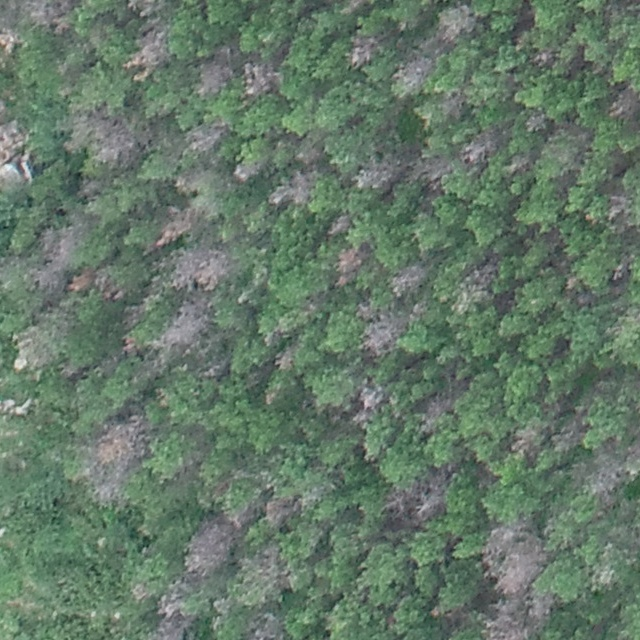unhealthy: (79, 416, 149, 498), (484, 519, 547, 593), (384, 472, 448, 527), (154, 298, 210, 357), (585, 442, 637, 505), (480, 593, 549, 640), (23, 218, 74, 281), (182, 516, 233, 575), (90, 111, 141, 168), (124, 26, 176, 81), (171, 246, 232, 290), (10, 321, 60, 373), (241, 546, 294, 594), (359, 305, 404, 358), (458, 255, 500, 304), (195, 49, 236, 98), (155, 205, 201, 247), (353, 154, 403, 190), (267, 172, 317, 208), (435, 3, 477, 43), (147, 605, 195, 639), (22, 0, 73, 32), (394, 54, 436, 92), (186, 117, 229, 154), (241, 60, 281, 99), (461, 127, 502, 165), (419, 391, 455, 433), (333, 244, 366, 287), (262, 492, 302, 527), (390, 262, 428, 297), (346, 32, 381, 69), (62, 108, 89, 155), (245, 611, 287, 640), (412, 155, 452, 185), (509, 422, 542, 458), (608, 83, 639, 120), (97, 267, 130, 301), (553, 418, 586, 452), (174, 167, 213, 195), (356, 381, 387, 415), (439, 88, 469, 120), (67, 267, 96, 295), (604, 192, 631, 222), (590, 563, 618, 591), (126, 0, 166, 18), (0, 24, 26, 51), (77, 176, 107, 199), (297, 142, 323, 168), (273, 344, 298, 371), (233, 159, 261, 183), (609, 255, 634, 281), (327, 213, 352, 238), (508, 151, 532, 176), (523, 110, 548, 133), (529, 48, 554, 68), (341, 0, 373, 12)
